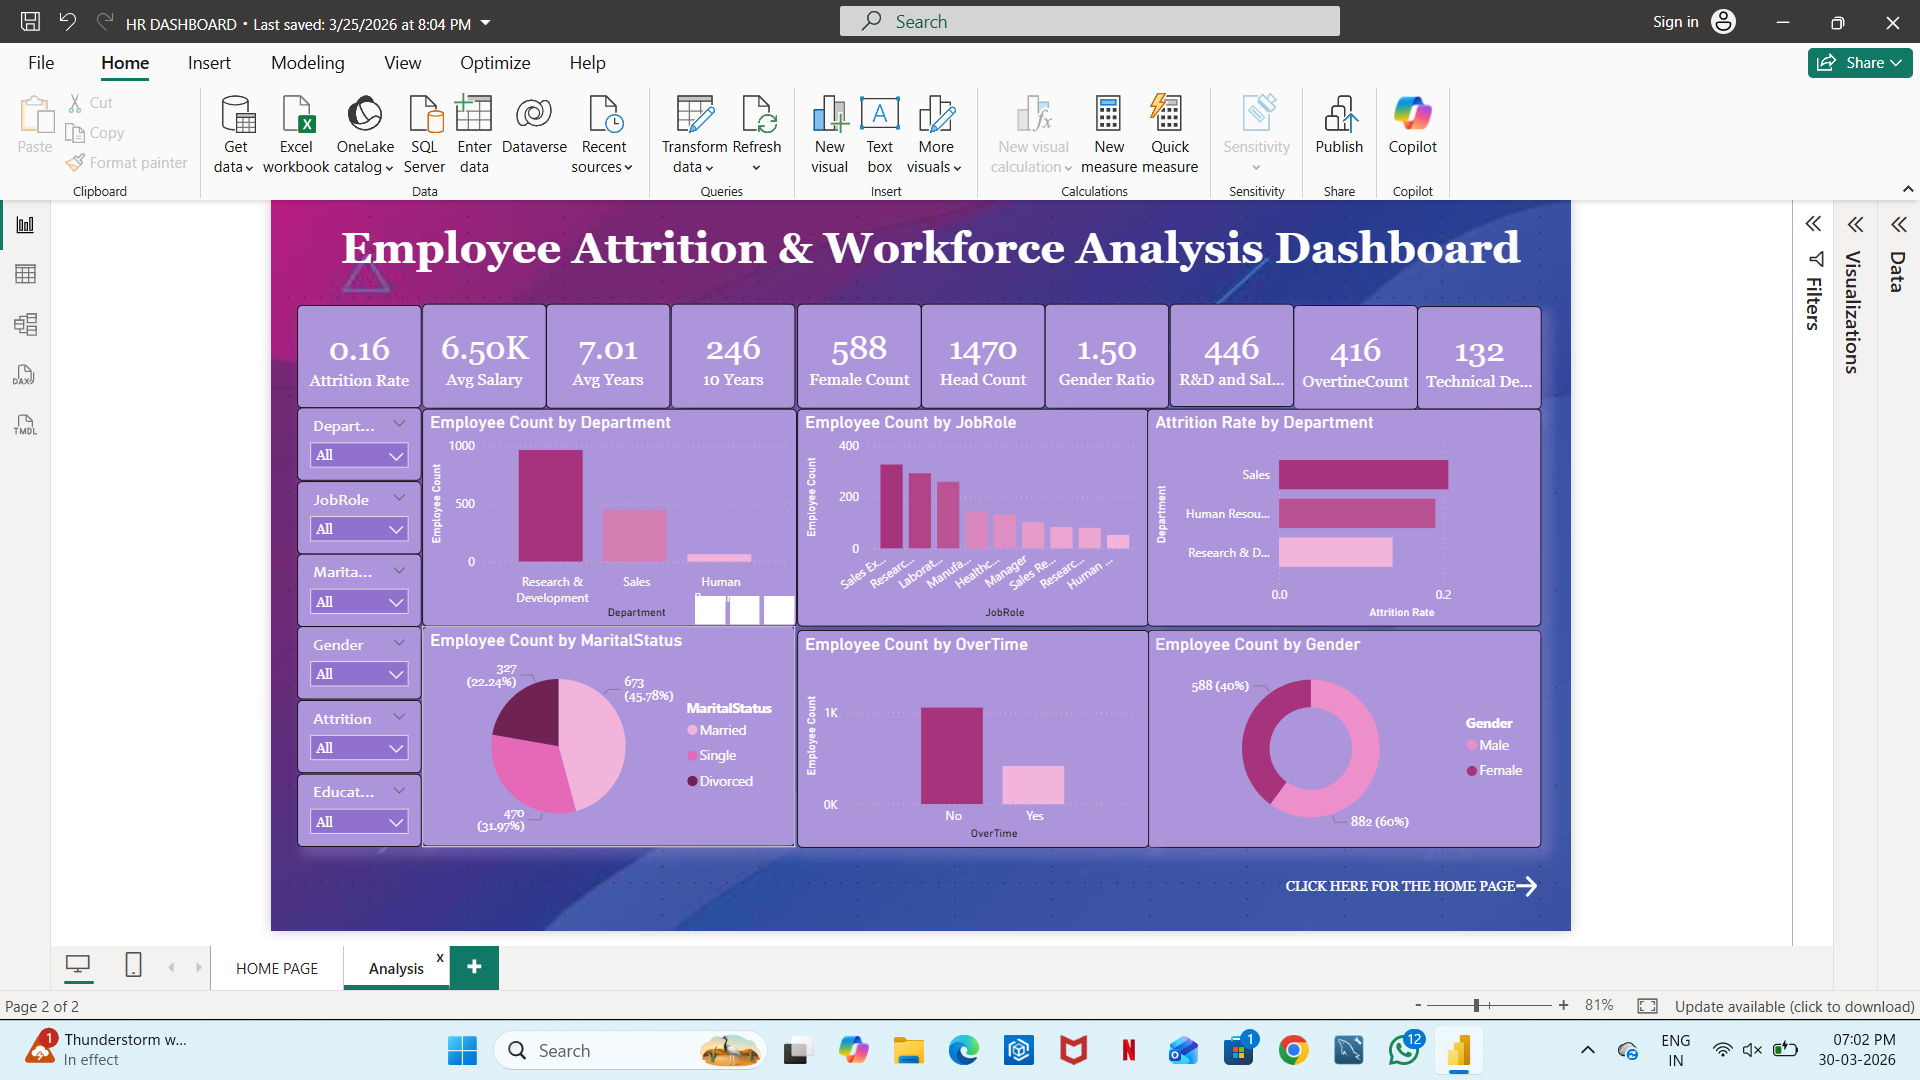

What the dashboard file says about the page in this screenshot:
{"tool":"powerbi","page":{"name":"Analysis","canvas":[1280,720],"ordinal":1},"visuals":[{"type":"card","fields":{"Values":["Hr Data.10 Years"]},"box":[393.7,101.6,122.4,103],"z":0},{"type":"card","fields":{"Values":["Hr Data.Avg Salary"]},"box":[148.9,101.6,122.4,103],"z":1000},{"type":"card","fields":{"Values":["Hr Data.Avg Years"]},"box":[271.3,101.6,122.4,103],"z":2000},{"type":"card","fields":{"Values":["Hr Data.Female Count"]},"box":[517.6,101.6,122.4,103],"z":3000},{"type":"card","fields":{"Values":["Hr Data.Gender Ratio"]},"box":[762.4,101.6,122.4,103],"z":4000},{"type":"card","fields":{"Values":["Hr Data.Head Count"]},"box":[640,101.6,122.4,103],"z":5000},{"type":"card","fields":{"Values":["Hr Data.OvertineCount"]},"box":[1007.3,103,122.4,103],"z":6000},{"type":"card","fields":{"Values":["Hr Data.R&D and Sales Count"]},"box":[884.9,101.6,122.4,101.6],"z":7000},{"type":"card","fields":{"Values":["Hr Data.Technical Degree"]},"box":[1128.3,104.3,122.4,101.6],"z":8000},{"type":"card","fields":{"Values":["Hr Data.Attrition Rate"]},"box":[26.4,103,122.4,101.6],"z":9000},{"type":"slicer","fields":{"Values":["Hr Data.Gender"]},"box":[26.4,420.2,122.4,72.3],"z":10000},{"type":"slicer","fields":{"Values":["Hr Data.Department"]},"box":[26.4,204.5,122.4,72.3],"z":11000},{"type":"slicer","fields":{"Values":["Hr Data.JobRole"]},"box":[26.4,276.9,122.4,72.3],"z":12000},{"type":"slicer","fields":{"Values":["Hr Data.MaritalStatus"]},"box":[26.4,347.8,122.4,72.3],"z":13000},{"type":"slicer","fields":{"Values":["Hr Data.Attrition"]},"box":[26.4,492.5,122.4,72.3],"z":14000},{"type":"slicer","fields":{"Values":["Hr Data.EducationField"]},"box":[26.4,564.9,122.4,72.3],"z":15000},{"type":"clusteredColumnChart","fields":{"Category":["Hr Data.Department"],"Y":["Hr Data.Employee Count"]},"box":[148.9,205.9,368.7,214.3],"z":16000},{"type":"columnChart","fields":{"Category":["Hr Data.JobRole"],"Y":["Hr Data.Employee Count"]},"box":[517.6,205.9,346.4,214.3],"z":17000},{"type":"pieChart","fields":{"Category":["Hr Data.MaritalStatus"],"Y":["Hr Data.Employee Count"]},"box":[148.9,420.2,367.3,217],"z":18000},{"type":"donutChart","fields":{"Category":["Hr Data.Gender"],"Y":["Hr Data.Employee Count"]},"box":[862.6,423,388.2,214.3],"z":19000},{"type":"clusteredBarChart","fields":{"Category":["Hr Data.Department"],"Y":["Hr Data.Attrition Rate"]},"box":[862.6,205.9,388.2,214.3],"z":20000},{"type":"textbox","box":[64,18.1,1186.8,101.6],"z":21000},{"type":"clusteredColumnChart","fields":{"Category":["Hr Data.OverTime"],"Y":["Hr Data.Employee Count"]},"box":[517.6,423,346.4,214.3],"z":22000},{"type":"actionButton","box":[960,649.7,290.8,51.5],"z":23000}]}

Visuals, with their boxes on the page's 1280x720 design canvas (x1, y1, x2, y2). These are canvas units, not pixel positions in the 1920x1080 screenshot, which may show the page scaled, cropped or inside an application window:
card - Hr Data.10 Years: [x1=394, y1=102, x2=516, y2=205]
card - Hr Data.Avg Salary: [x1=149, y1=102, x2=271, y2=205]
card - Hr Data.Avg Years: [x1=271, y1=102, x2=394, y2=205]
card - Hr Data.Female Count: [x1=518, y1=102, x2=640, y2=205]
card - Hr Data.Gender Ratio: [x1=762, y1=102, x2=885, y2=205]
card - Hr Data.Head Count: [x1=640, y1=102, x2=762, y2=205]
card - Hr Data.OvertineCount: [x1=1007, y1=103, x2=1130, y2=206]
card - Hr Data.R&D and Sales Count: [x1=885, y1=102, x2=1007, y2=203]
card - Hr Data.Technical Degree: [x1=1128, y1=104, x2=1251, y2=206]
card - Hr Data.Attrition Rate: [x1=26, y1=103, x2=149, y2=205]
slicer - Hr Data.Gender: [x1=26, y1=420, x2=149, y2=492]
slicer - Hr Data.Department: [x1=26, y1=204, x2=149, y2=277]
slicer - Hr Data.JobRole: [x1=26, y1=277, x2=149, y2=349]
slicer - Hr Data.MaritalStatus: [x1=26, y1=348, x2=149, y2=420]
slicer - Hr Data.Attrition: [x1=26, y1=492, x2=149, y2=565]
slicer - Hr Data.EducationField: [x1=26, y1=565, x2=149, y2=637]
clusteredColumnChart - Hr Data.Department x Hr Data.Employee Count: [x1=149, y1=206, x2=518, y2=420]
columnChart - Hr Data.JobRole x Hr Data.Employee Count: [x1=518, y1=206, x2=864, y2=420]
pieChart - Hr Data.MaritalStatus x Hr Data.Employee Count: [x1=149, y1=420, x2=516, y2=637]
donutChart - Hr Data.Gender x Hr Data.Employee Count: [x1=863, y1=423, x2=1251, y2=637]
clusteredBarChart - Hr Data.Department x Hr Data.Attrition Rate: [x1=863, y1=206, x2=1251, y2=420]
textbox: [x1=64, y1=18, x2=1251, y2=120]
clusteredColumnChart - Hr Data.OverTime x Hr Data.Employee Count: [x1=518, y1=423, x2=864, y2=637]
actionButton: [x1=960, y1=650, x2=1251, y2=701]
